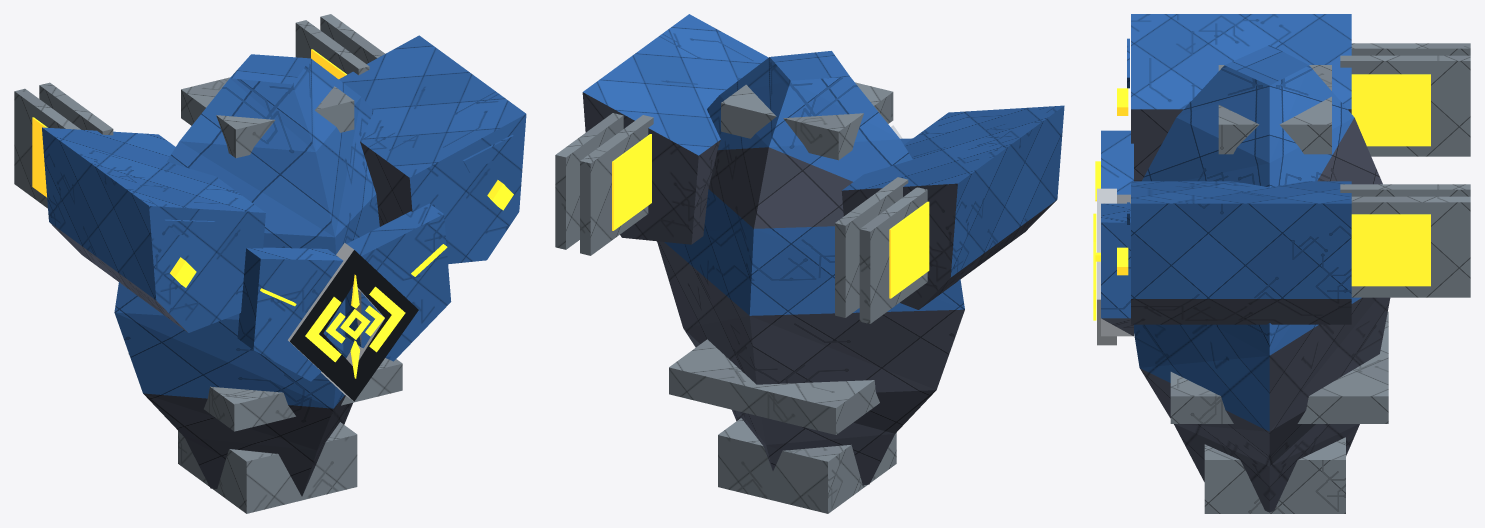
File: BasicTorsoW.glb
The picture shows the model from 3 angles, left to right: view 1: azimuth 30°, elevation 25°; view 2: azimuth 150°, elevation 25°; view 3: azimuth 270°, elevation 25°; orthographic projection. The views are drawn at different scales.
Visible parts, largest first — view 1: BasicTorsoW_Body, BasicTorsoW_Core; view 2: BasicTorsoW_Body, BasicTorsoW_Core; view 3: BasicTorsoW_Body, BasicTorsoW_Core.
Part boxes in pixels (x1,y1,x2,y2): BasicTorsoW_Body: (42, 35, 526, 513); BasicTorsoW_Core: (14, 14, 513, 306); BasicTorsoW_Body: (582, 14, 1064, 513); BasicTorsoW_Core: (555, 113, 929, 323); BasicTorsoW_Body: (1093, 14, 1390, 513); BasicTorsoW_Core: (1095, 43, 1470, 297).
Size of the model in its own units: 10.59 by 10.97 by 8.91.
7 materials, 3 textured.
